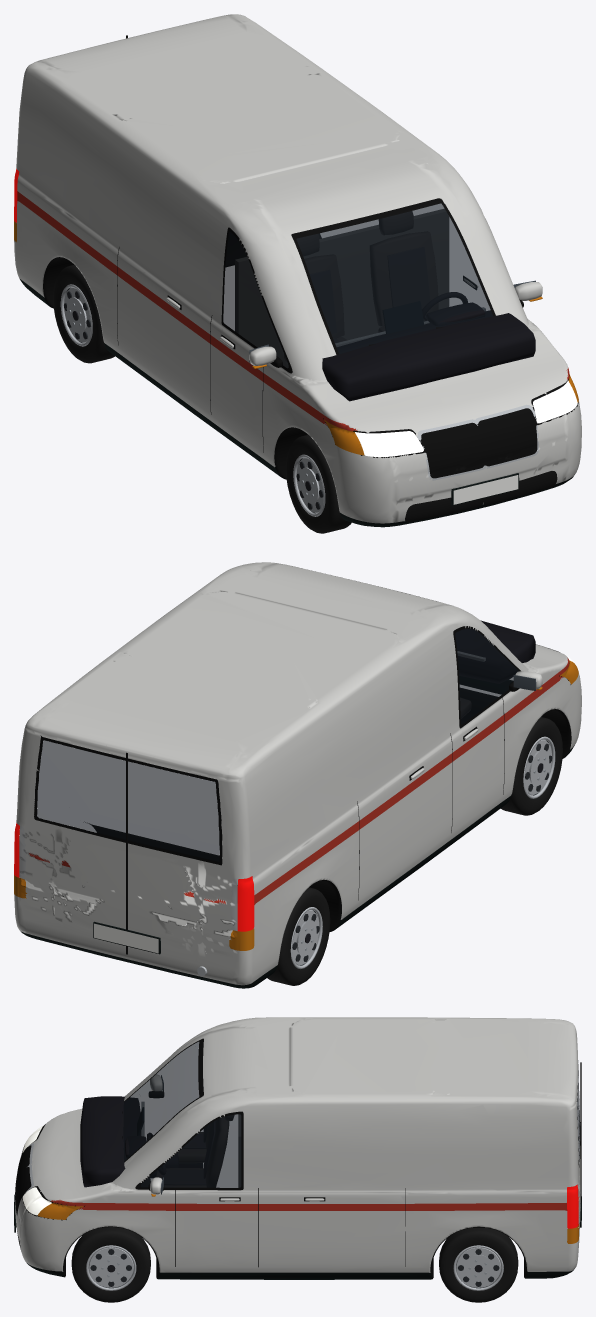
The model's file is car_van.glb.
3 renders of one model, top to bottom at view 1: azimuth 30°, elevation 25°; view 2: azimuth 150°, elevation 25°; view 3: azimuth 270°, elevation 25°, orthographic. The views are drawn at different scales.
Parts seen in each view (by area): view 1: body, glass, wheel_FR_mesh, wheel_RR_mesh, headlight, plate, indicator_R; view 2: body, glass, wheel_RR_mesh, wheel_FR_mesh, taillight, plate, indicator_R; view 3: body, glass, wheel_FL_mesh, wheel_RL_mesh, indicator_L, headlight, taillight.
Part boxes in pixels (box(x1,y1,x2,y2)): body: box(14, 14, 581, 527); glass: box(223, 203, 492, 368); wheel_FR_mesh: box(286, 435, 351, 533); wheel_RR_mesh: box(53, 264, 114, 363); headlight: box(355, 380, 577, 456); plate: box(453, 475, 518, 504); indicator_R: box(14, 221, 364, 455); body: box(14, 562, 581, 988); glass: box(37, 628, 518, 861); wheel_RR_mesh: box(267, 887, 330, 985); wheel_FR_mesh: box(501, 717, 562, 815); taillight: box(14, 823, 254, 931); plate: box(94, 923, 158, 953); indicator_R: box(229, 660, 578, 950); body: box(14, 1017, 581, 1279); glass: box(123, 1042, 580, 1187); wheel_FL_mesh: box(71, 1227, 150, 1302); wheel_RL_mesh: box(439, 1227, 518, 1302); indicator_L: box(37, 1193, 579, 1243); headlight: box(22, 1125, 51, 1215); taillight: box(567, 1184, 578, 1228).
Bounding box in the file's own units: 2.35 × 1.98 × 5.03.
